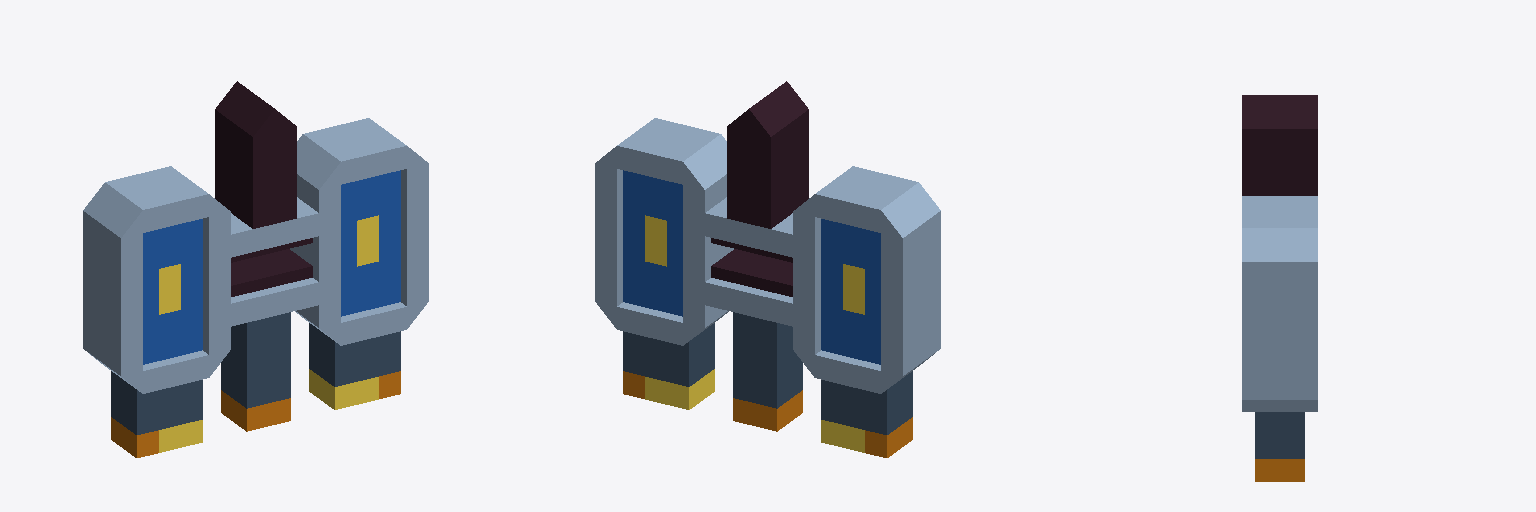
The model's file is Enemy3.obj.
3 renders of one model, left to right at view 1: azimuth 30°, elevation 25°; view 2: azimuth 150°, elevation 25°; view 3: azimuth 270°, elevation 25°, orthographic.
Size of the model in its own units: 14 by 14 by 3.